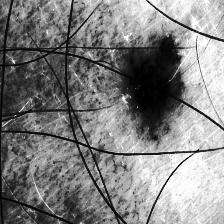Benign Marking or Mole: (127, 36, 186, 127)
